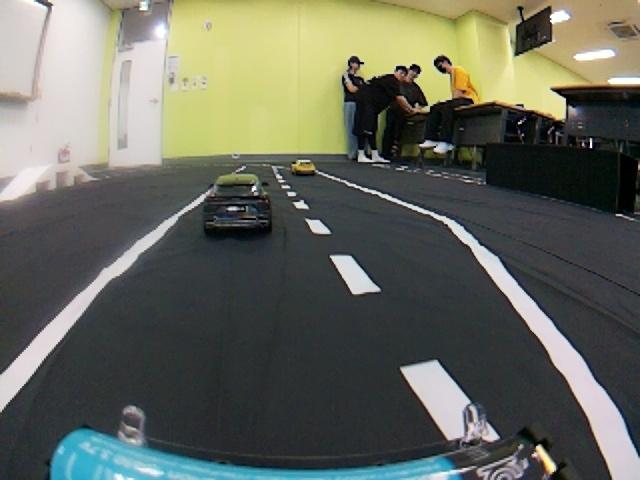objects: (82, 76, 617, 480)
